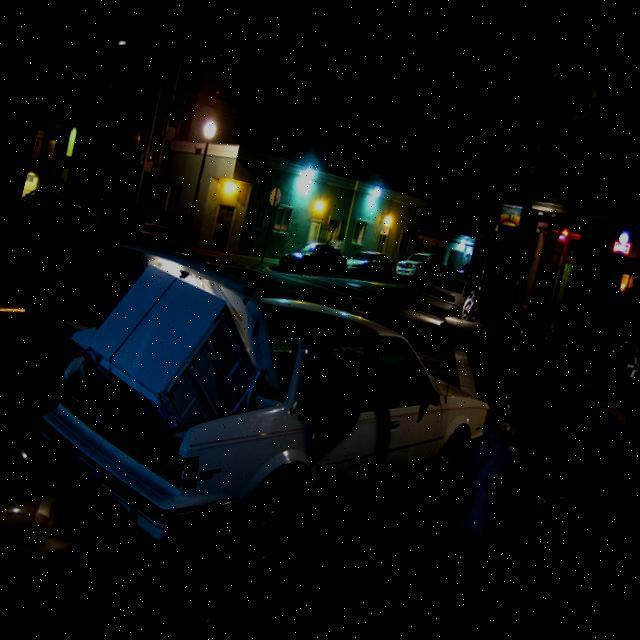fire_hydrant: (450, 393, 530, 526)
